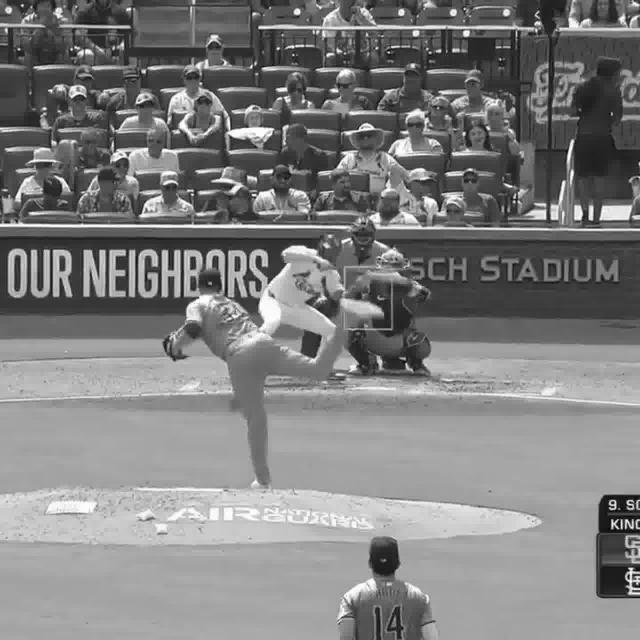base: (347, 386, 397, 392)
baseball_glove: (164, 335, 190, 361), (372, 283, 410, 298)
bat: (336, 264, 416, 283)
shoe: (339, 300, 383, 320), (351, 363, 384, 377), (408, 366, 430, 377), (252, 482, 270, 493)
